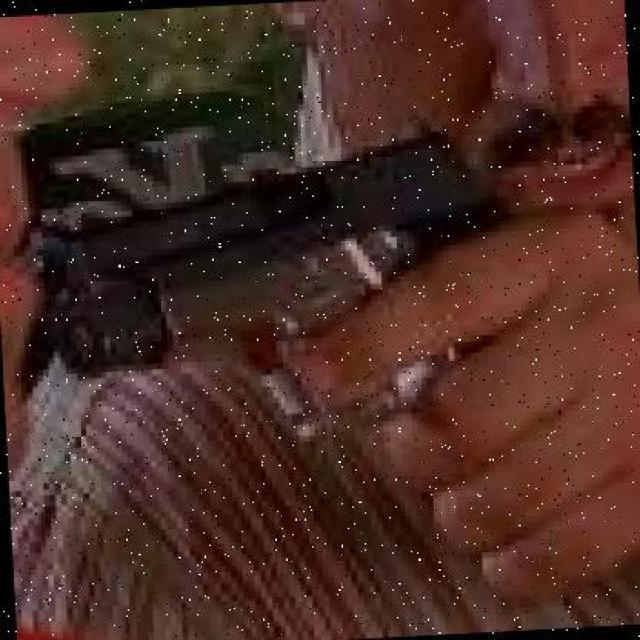rifle: (7, 125, 509, 394)
